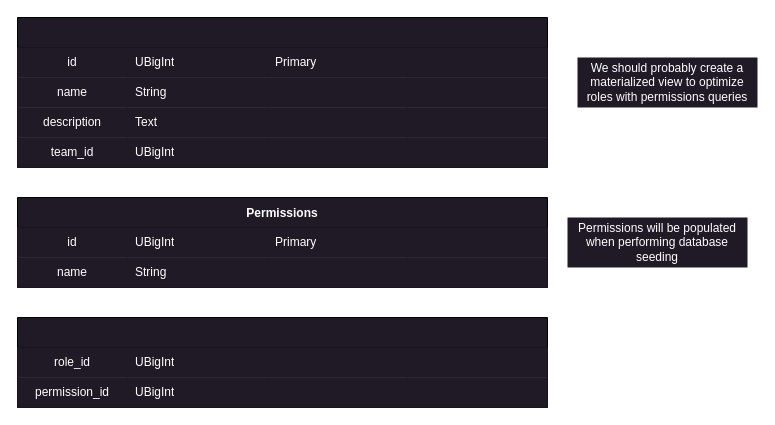
Some shapes in this 775 by 425 pixel diagram are drawn without their labels. Here are the shapes that lost their labels. From the top down, the box of each, then its label:
(16, 16, 548, 168): Roles
(16, 316, 548, 408): RolePermissions
